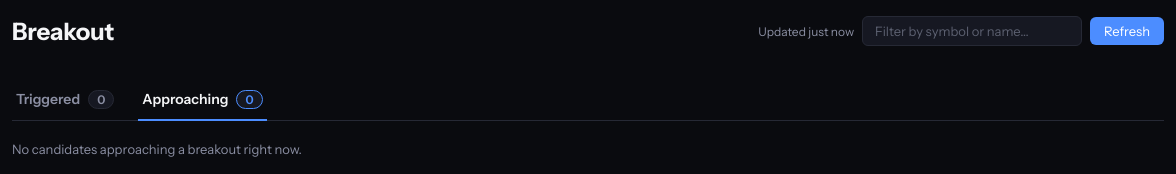
Test: BreakoutView › shows an empty message when there are no candidates
Click the tab with class "tab" showing "Triggered 0" at (65, 101), box [12, 82, 118, 121]
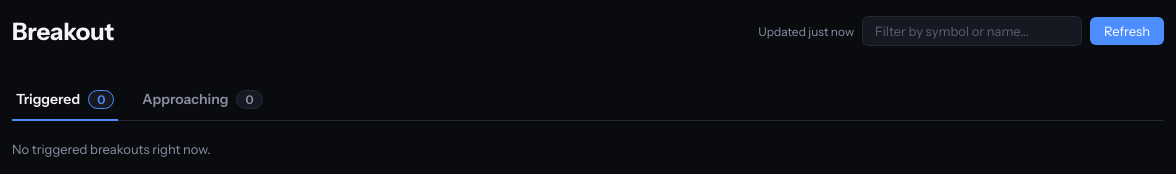
Expected: the text "No triggered breakouts right now." is shown, [12, 141, 211, 157]
